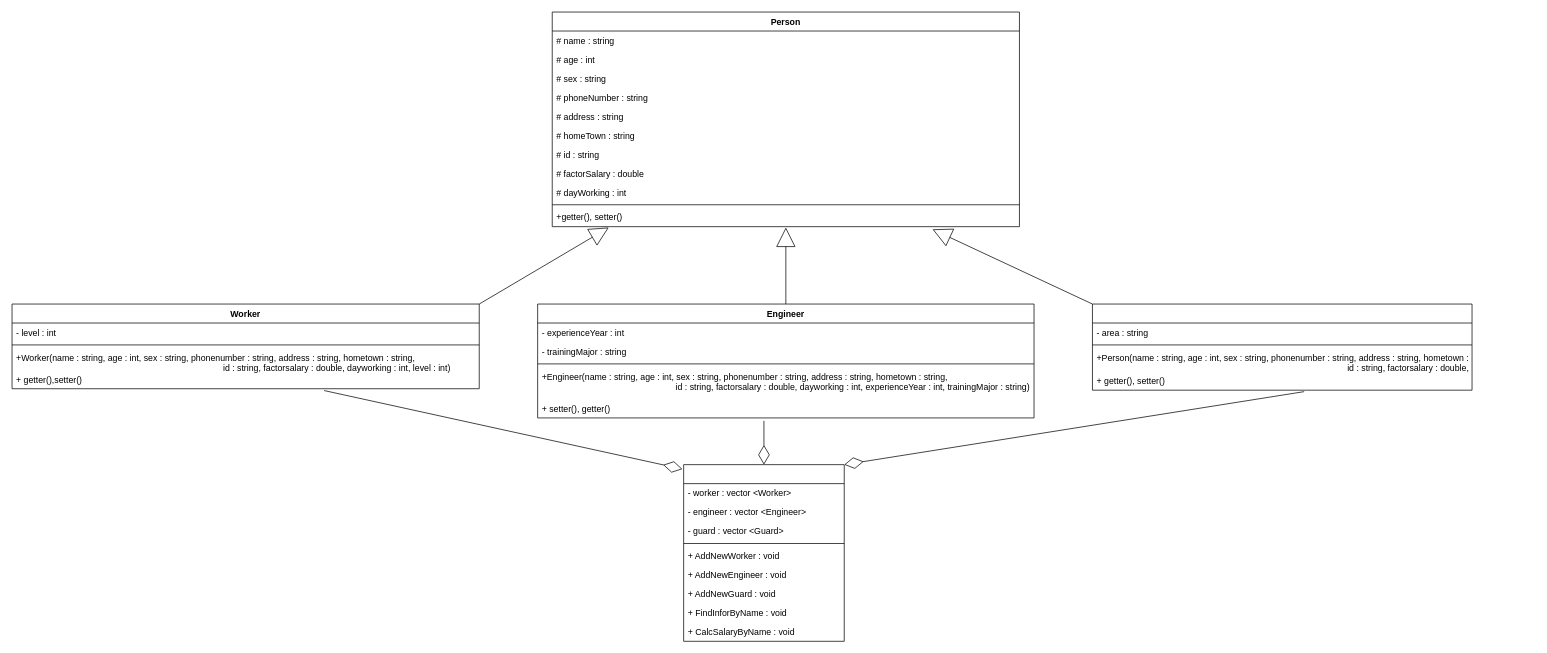
Image size: 1547x653. Some labels were removed from this diagram. Here are the shapes that lost their labels. From the top down, the box of each, then its label:
(1092, 303, 1472, 390): Guard
(683, 464, 844, 641): Manager
